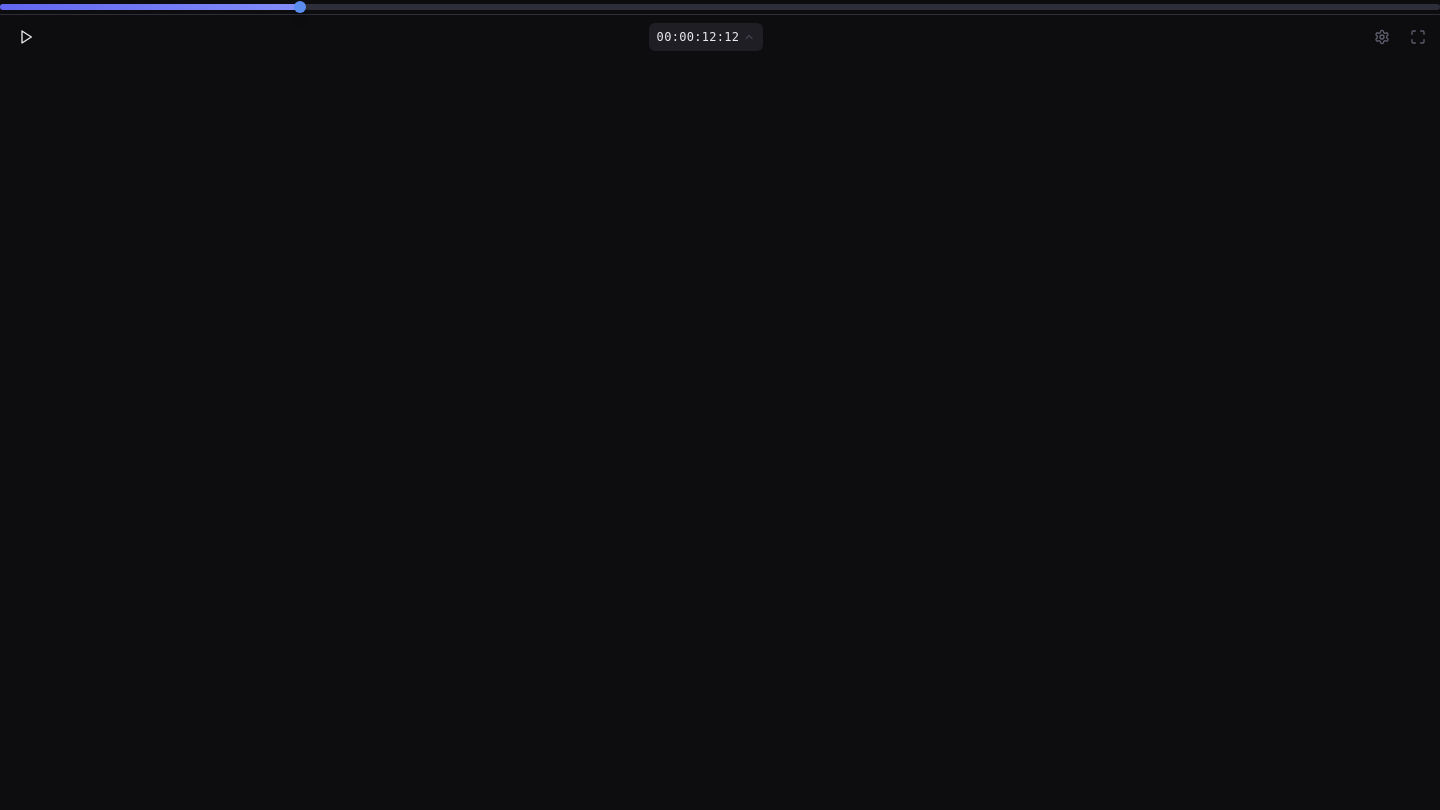
Test: §228 — the settings sheet › and closes afterwards, because picking a speed is the whole interaction
This screenshot has width=1440, height=810.
What coordinates should you click on to do the following:
click the button with test id "player-settings-button"
I would click on:
 (1382, 36)
Its box is [1364,14,1400,58].
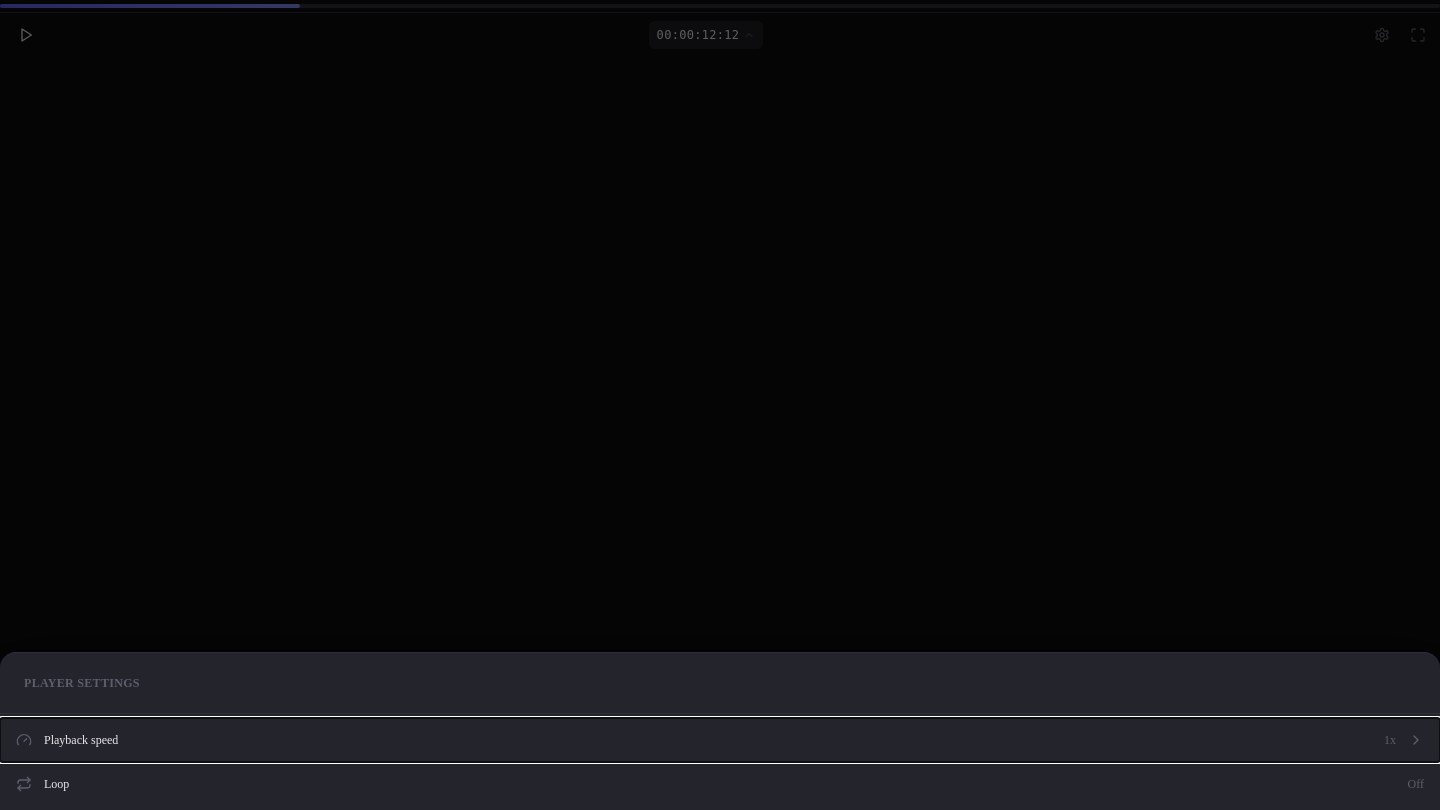
What coordinates should you click on to do the following:
click the button with test id "sheet-row-speed"
I would click on:
 (81, 740)
Its box is [0,718,1439,762].
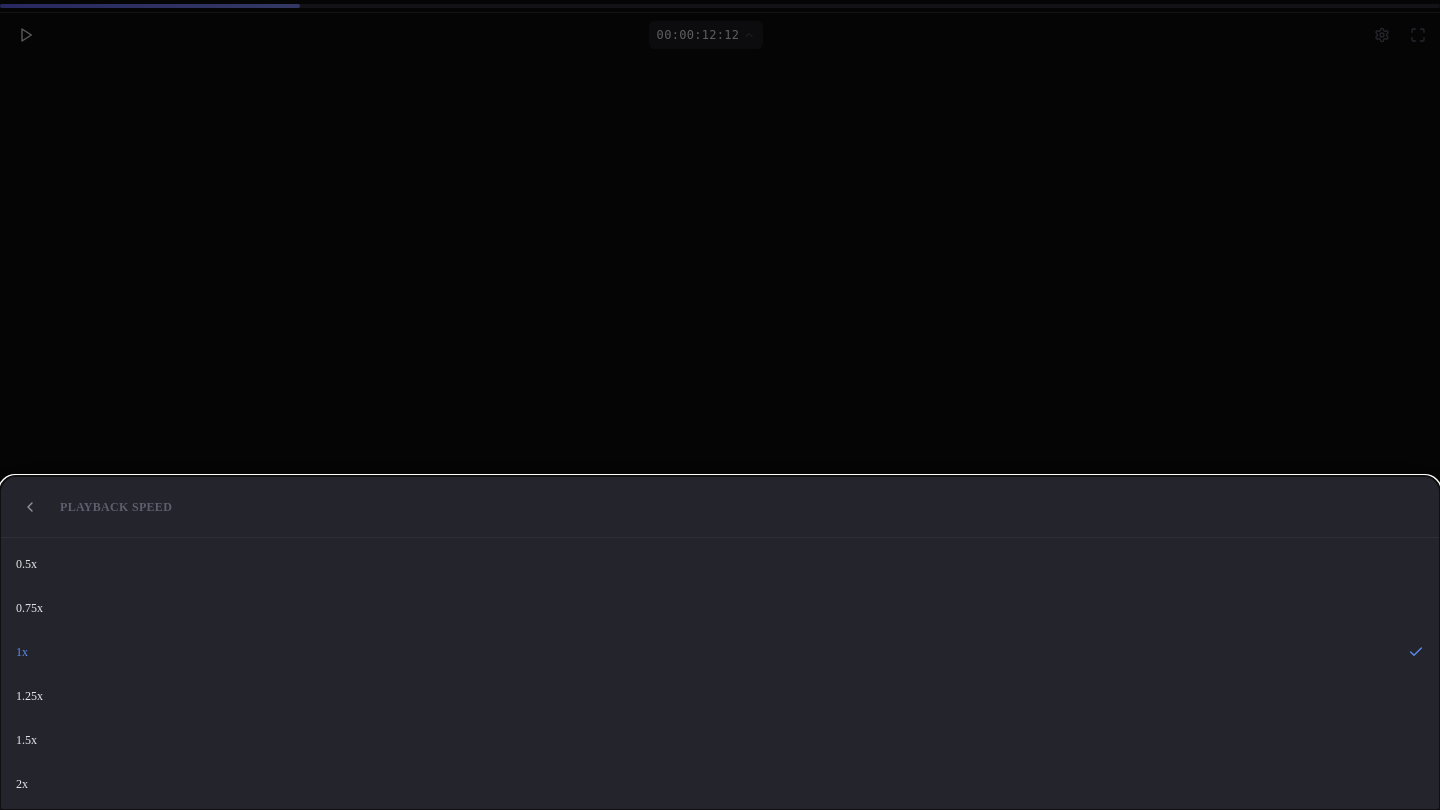
What coordinates should you click on to do the following:
click the button "0.5x"
I would click on:
 (26, 564)
Its box is [0,542,1439,586].
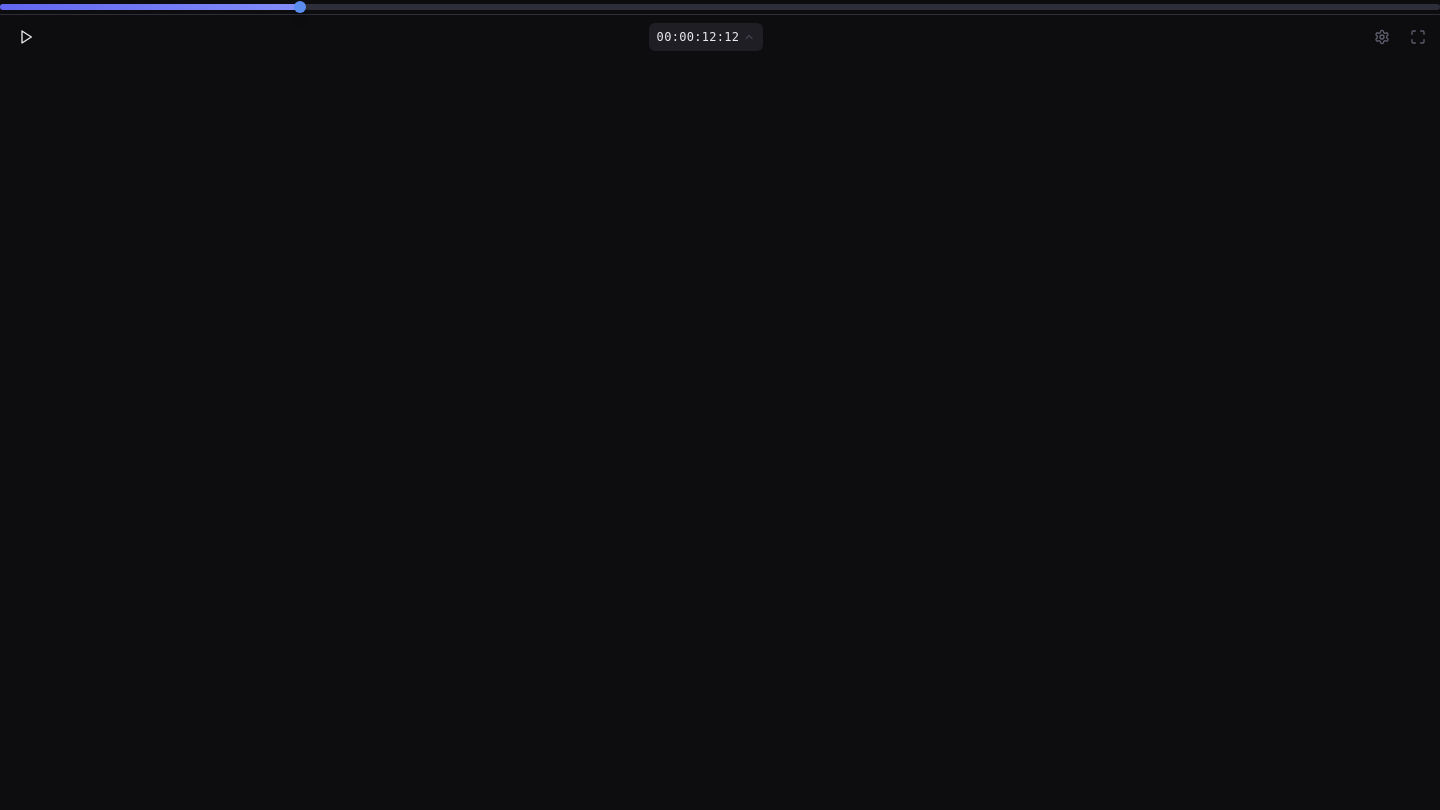
Expected: the dialog with test id "player-settings-sheet" is gone
